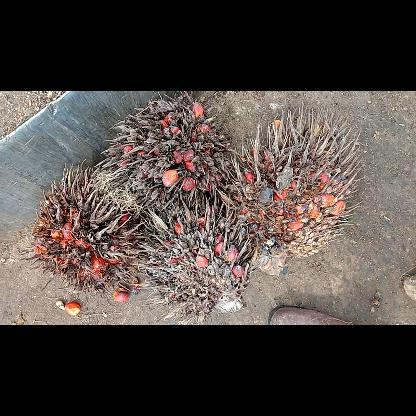Terlalu masak: (215, 102, 368, 282), (91, 90, 238, 222), (19, 153, 150, 297), (130, 194, 260, 324)
